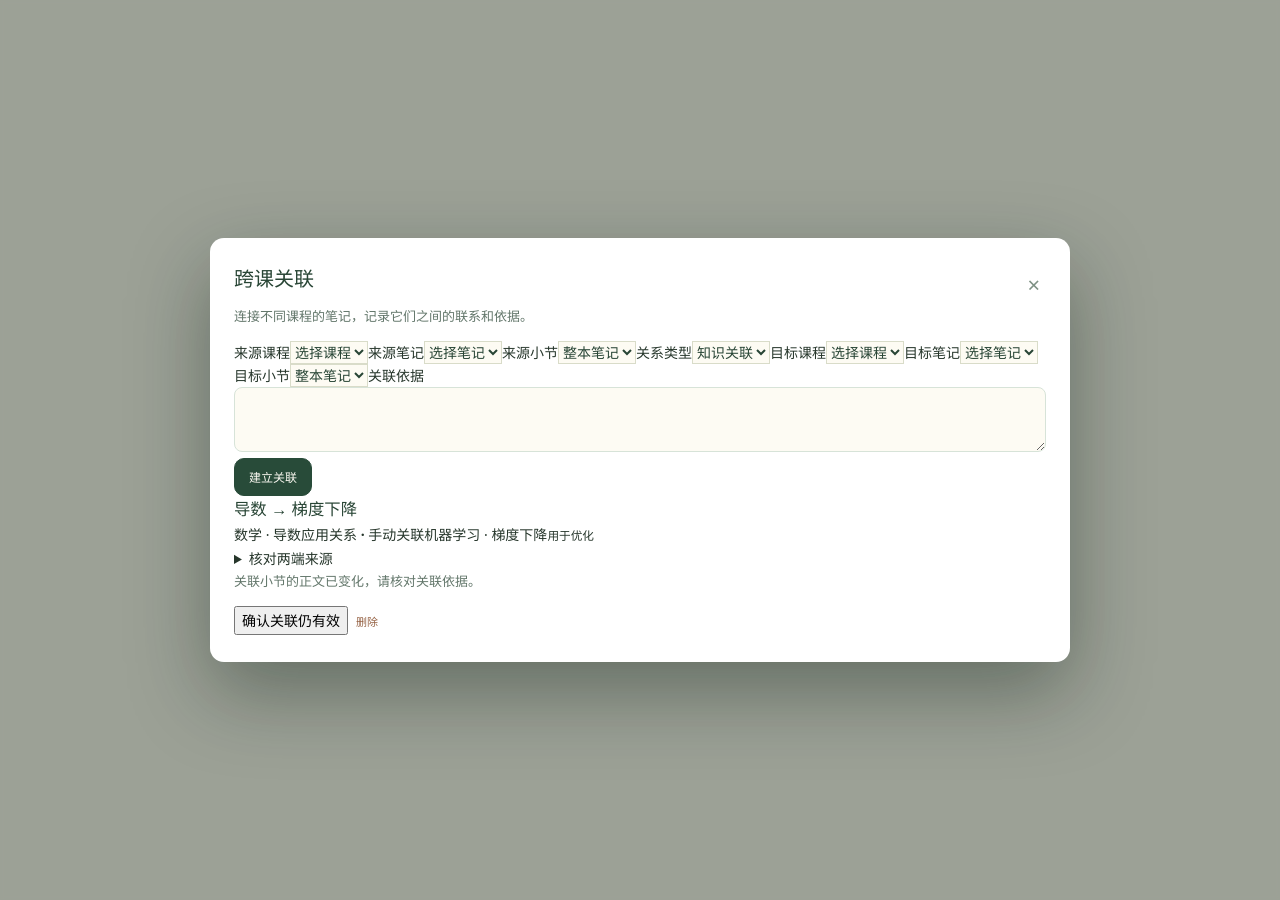
failed reconfirmation keeps the warning and reports the server reason
Click the button "确认关联仍有效" at (291, 620), box [234, 606, 348, 635]
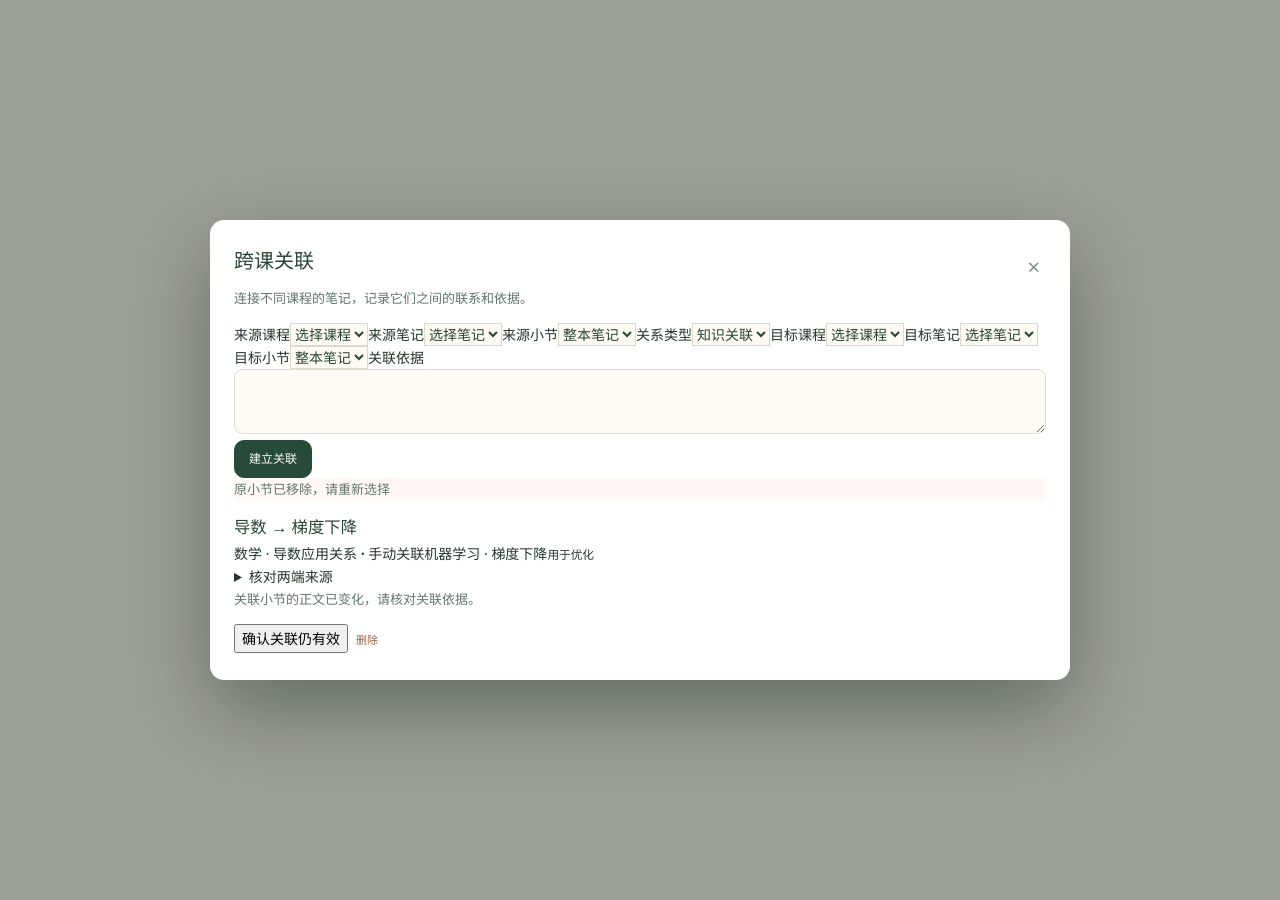
Expected: the text "关联小节的正文已变化，请核对关联依据。" is shown, [234, 590, 481, 608]
Expected: the message "原小节已移除，请重新选择" is shown, [234, 478, 1046, 500]
